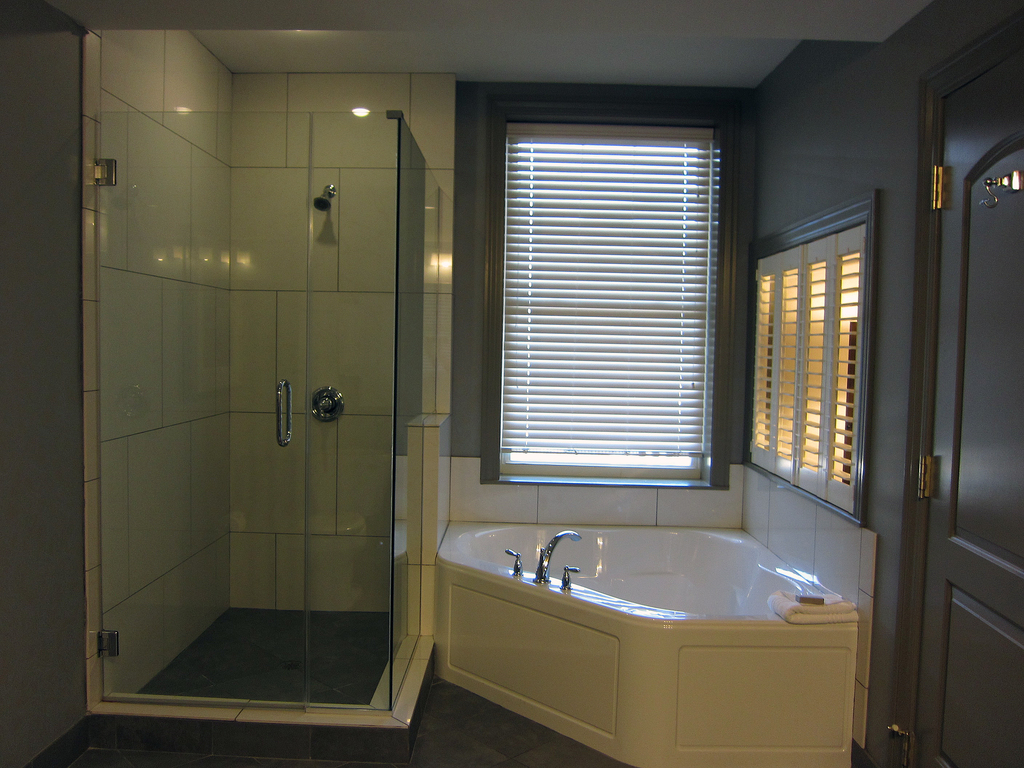tap: (531, 528, 579, 585)
